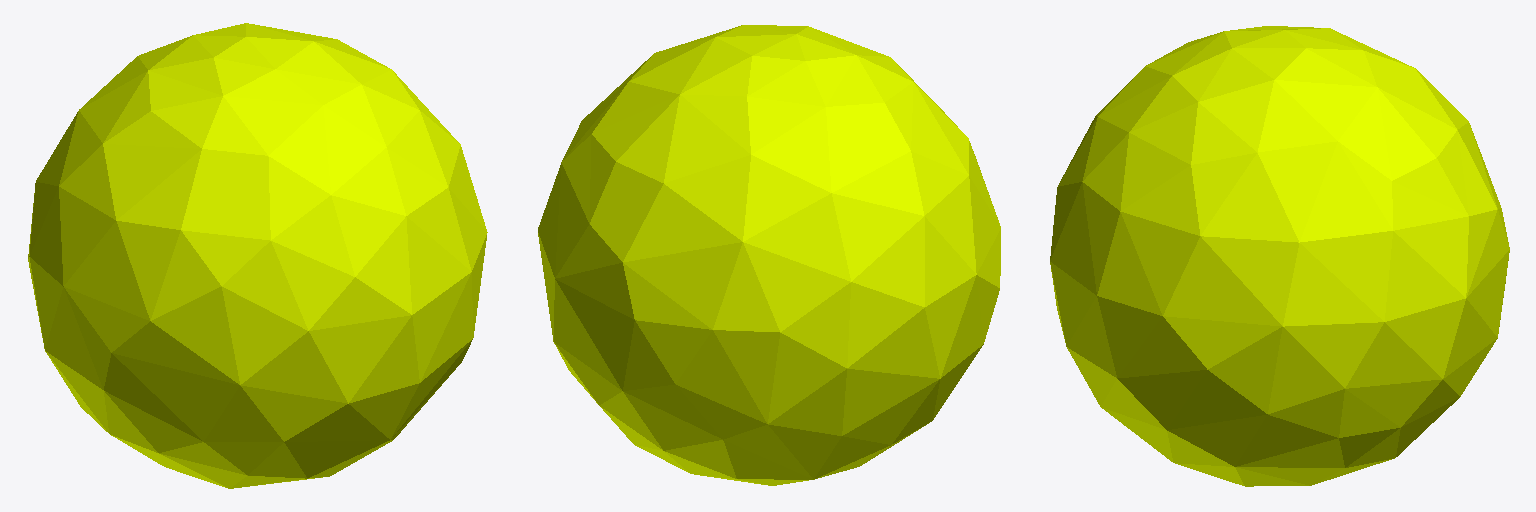
3 views of the same model, side by side, from view 1: azimuth 30°, elevation 25°; view 2: azimuth 150°, elevation 25°; view 3: azimuth 270°, elevation 25° (orthographic).
Parts seen in each view (by area): view 1: 目; view 2: 目; view 3: 目.
Boxes of the visible parts, <box> form: 目: <box>28,23,487,488</box>; 目: <box>538,25,1000,485</box>; 目: <box>1050,26,1509,486</box>.
Bounding box in the file's own units: 0.2271 × 0.2263 × 0.2256.
Materials: 1 (1 with a texture image).